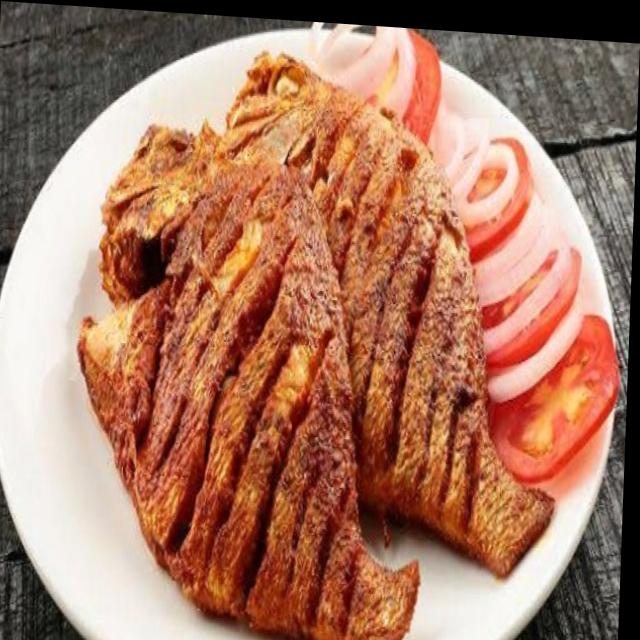FISH FRY: (76, 57, 554, 640)
